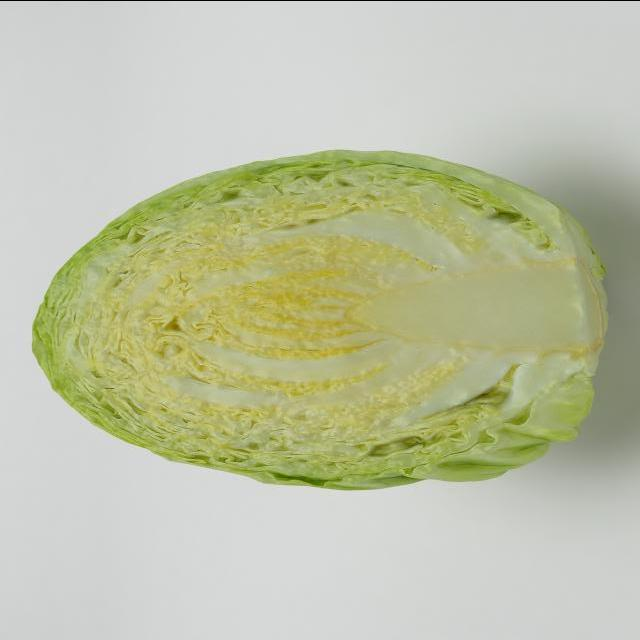cabbage: (29, 148, 621, 490)
